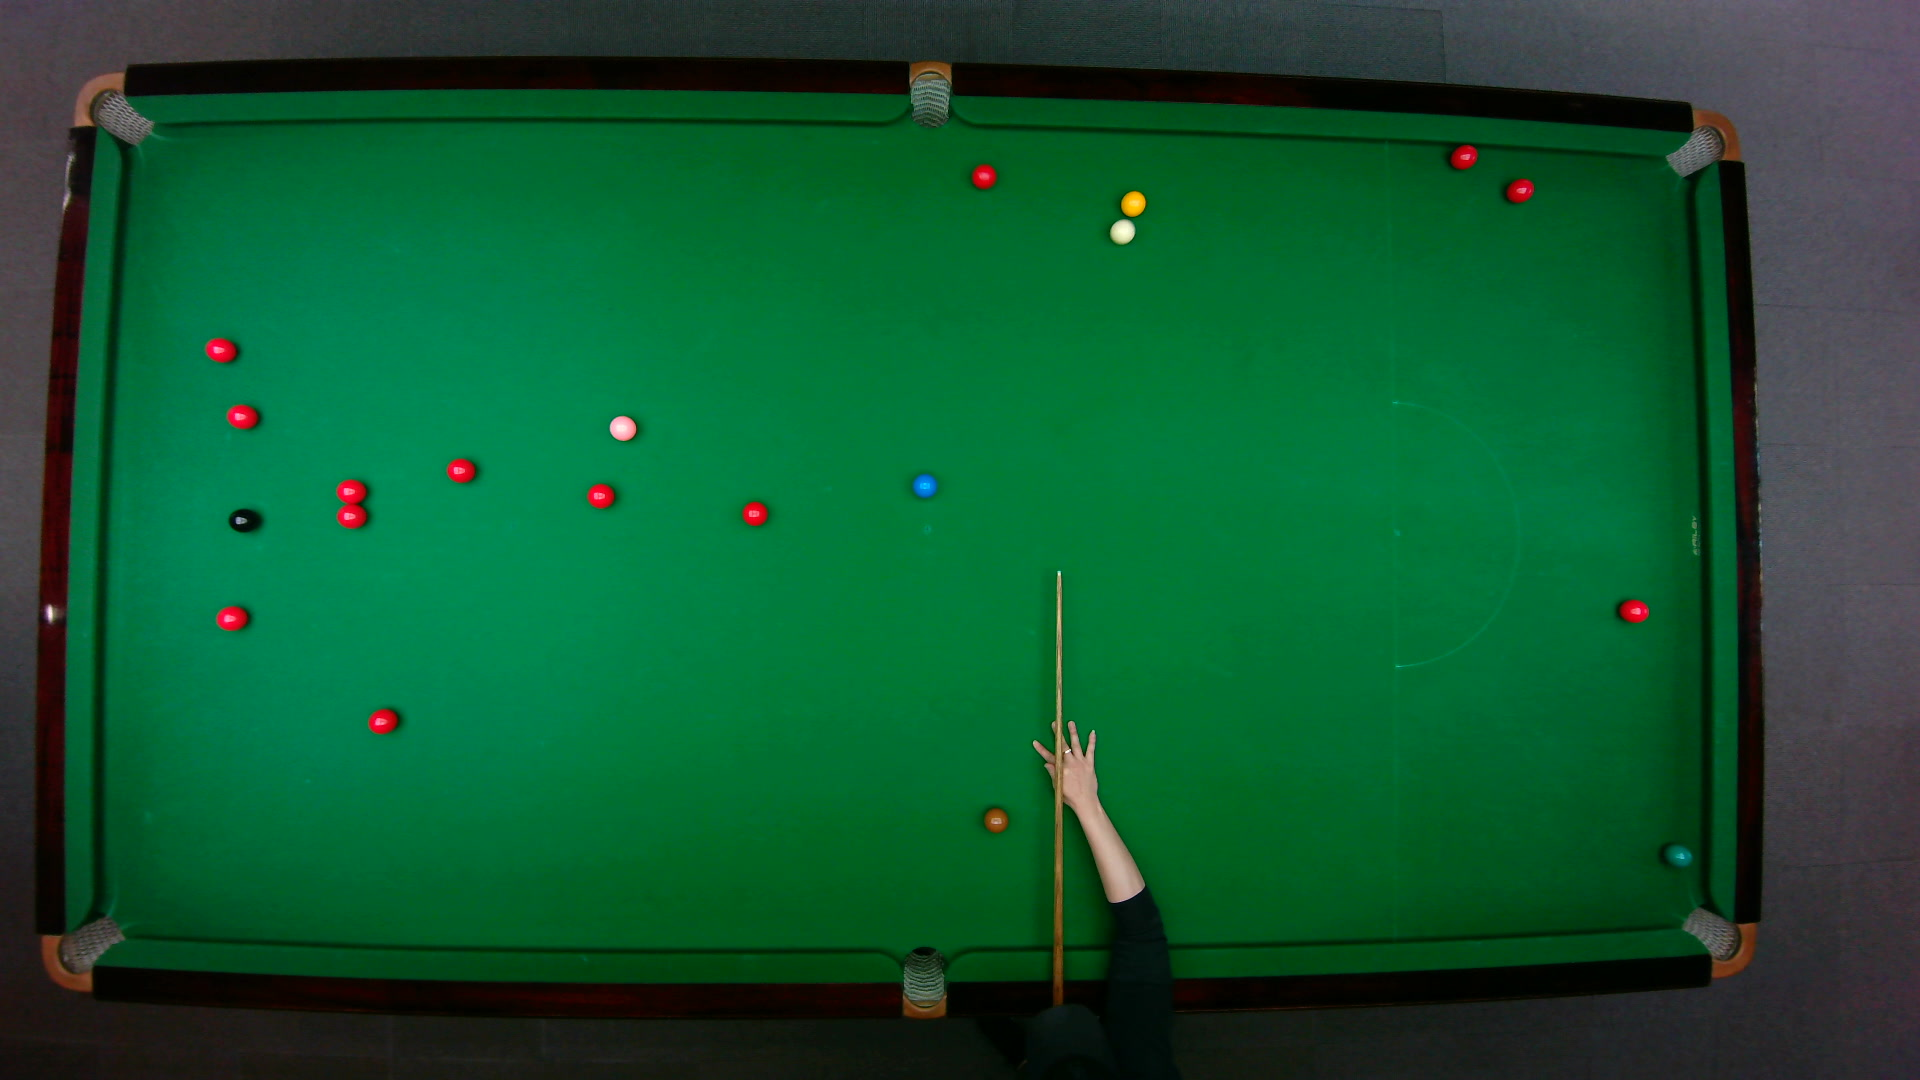bag: (40, 914, 127, 993), (73, 73, 156, 146), (1680, 906, 1759, 978), (1665, 109, 1741, 178), (902, 945, 945, 1021), (909, 61, 951, 129)
black: (228, 508, 262, 534)
blue: (913, 473, 938, 498)
brown: (982, 807, 1010, 833)
cue: (1052, 568, 1064, 1006)
green: (1663, 843, 1695, 869)
pink: (608, 415, 637, 442)
red: (1449, 144, 1480, 171), (227, 404, 258, 430), (368, 708, 400, 735), (204, 338, 237, 363), (216, 607, 249, 632), (336, 479, 367, 505), (447, 458, 476, 484), (1506, 178, 1535, 204), (1619, 599, 1650, 624), (587, 483, 615, 509), (971, 164, 998, 190), (336, 505, 367, 529), (742, 501, 769, 527)
white: (1109, 218, 1137, 247)
yellow: (1120, 190, 1147, 218)
zone: (1393, 402, 1520, 669)
